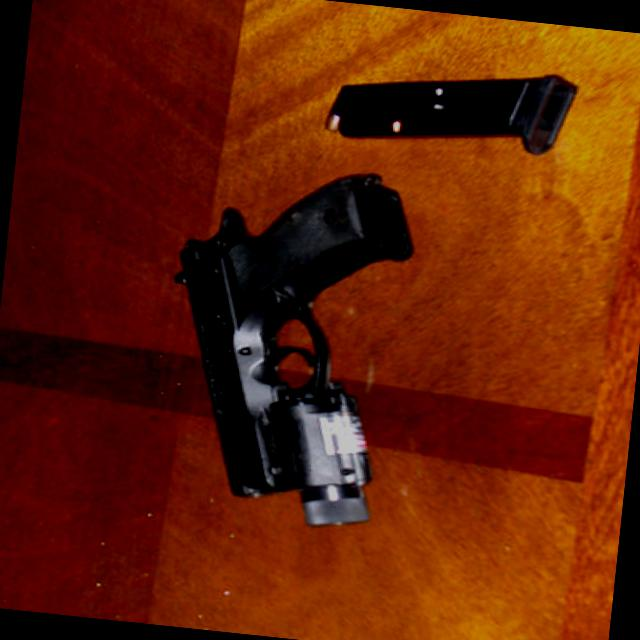handgun: (144, 152, 418, 541)
